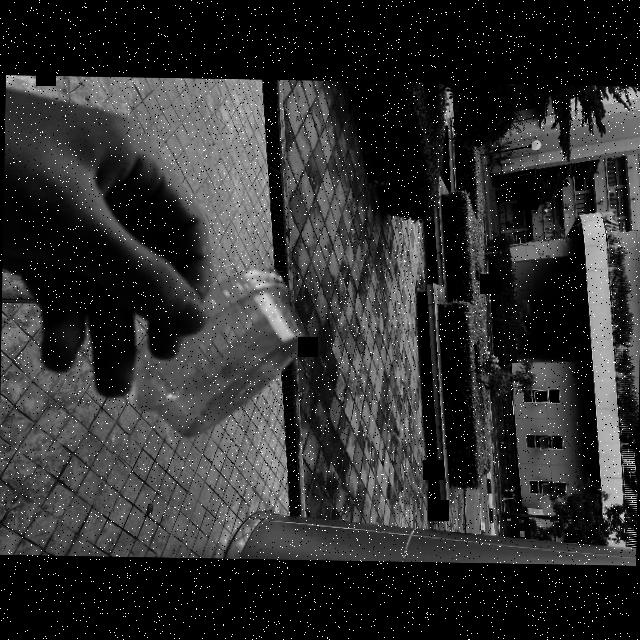plastic_cup_lid: (104, 254, 317, 448)
